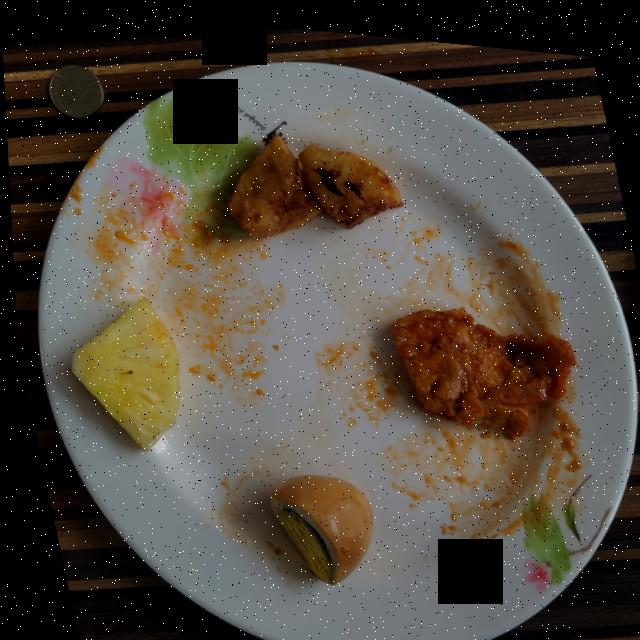coin: (48, 63, 104, 117)
creamy tofu: (392, 298, 573, 426)
fried potato: (227, 129, 401, 232)
pineapple: (68, 294, 176, 448)
soy egg: (265, 469, 368, 579)
